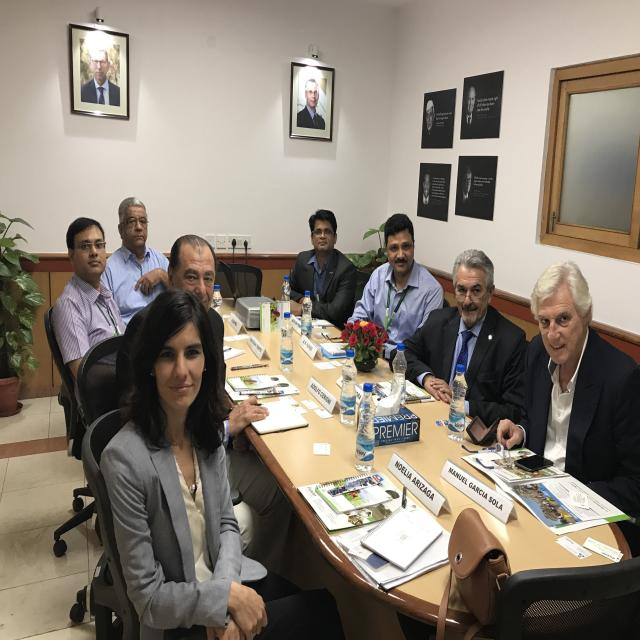body: (94, 278, 356, 640), (113, 231, 296, 581), (494, 257, 640, 559), (388, 248, 528, 423), (345, 212, 444, 361), (51, 217, 128, 384), (421, 84, 498, 222), (98, 196, 174, 330), (282, 208, 359, 332), (76, 29, 122, 109), (294, 76, 326, 131)
